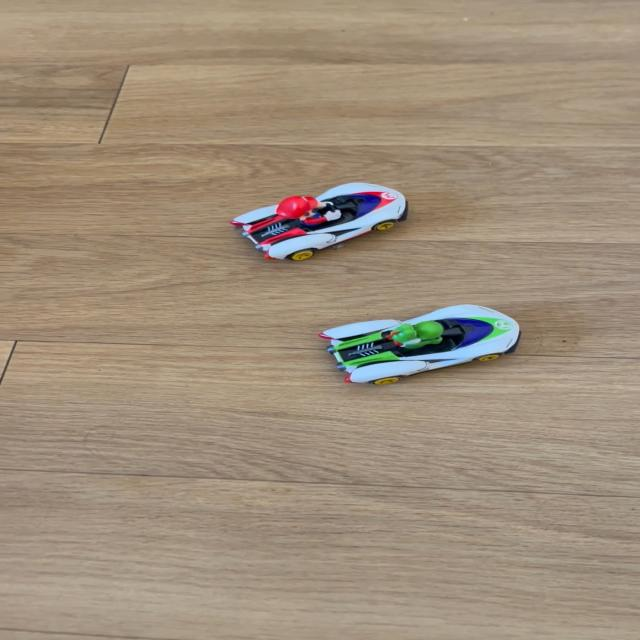mario: (221, 177, 427, 265)
yoshi: (314, 302, 538, 389)
